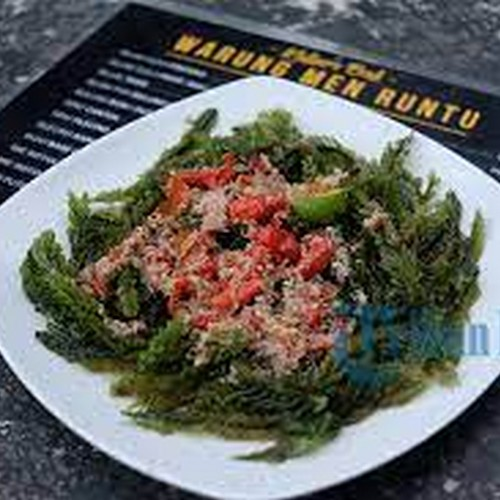bulung buni: (54, 102, 479, 438)
